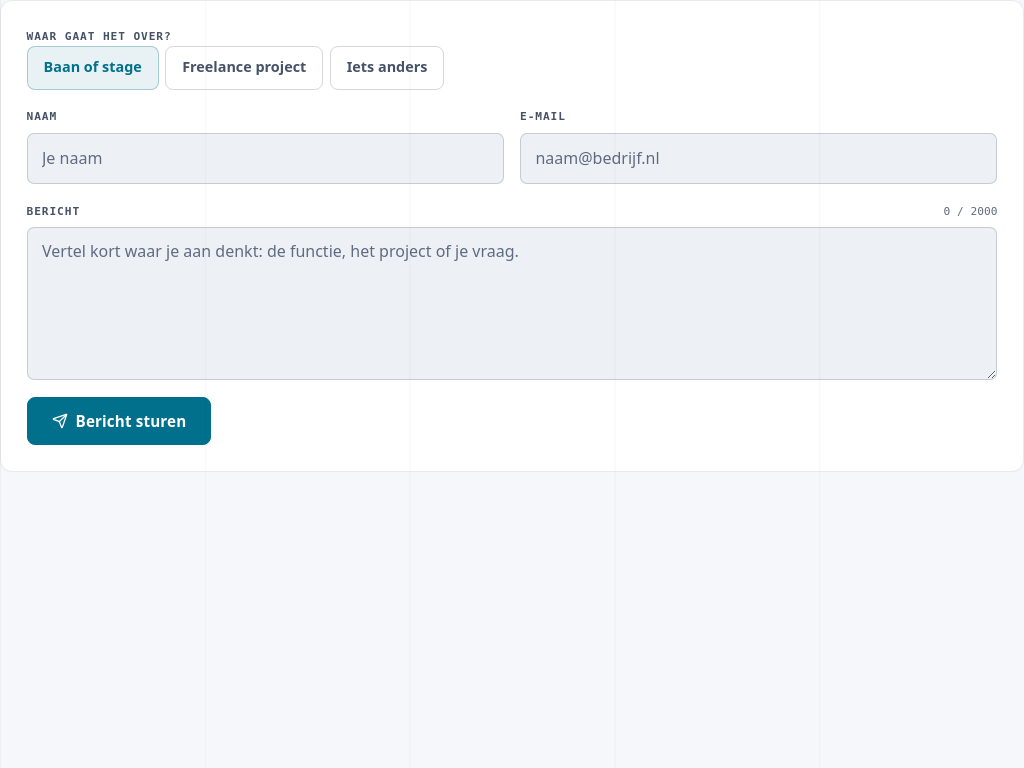
Test: ContactForm › toont een vriendelijke foutmelding als versturen mislukt
Click the radio button labelled "Freelance project": (244, 68) [165,46,323,90]
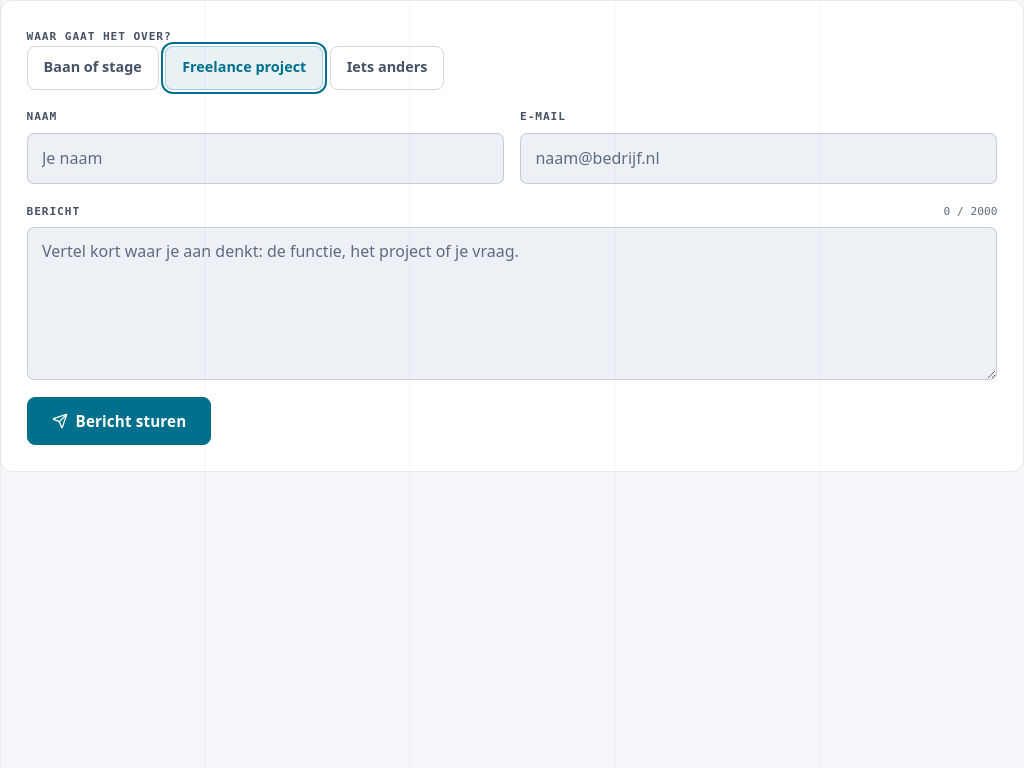
In the field labelled "Naam": (265, 158) [27,133,504,184], type "Sanne de Vries"
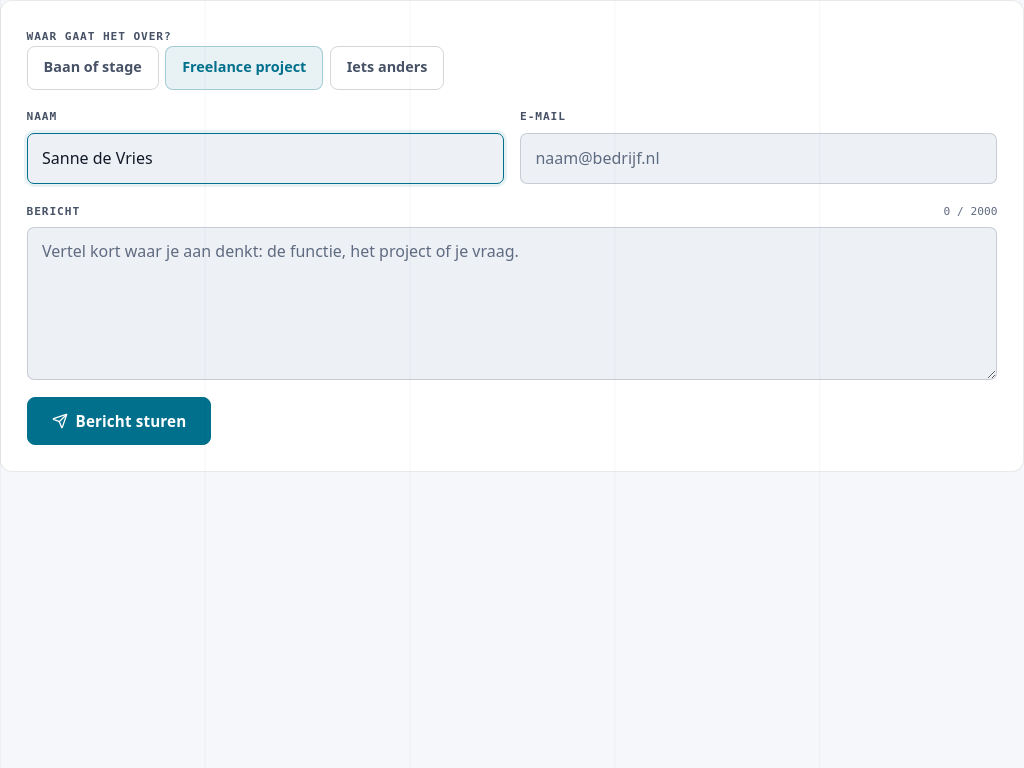
In the field labelled "E-mail": (759, 158) [520,133,997,184], type "sanne@bedrijf.nl"
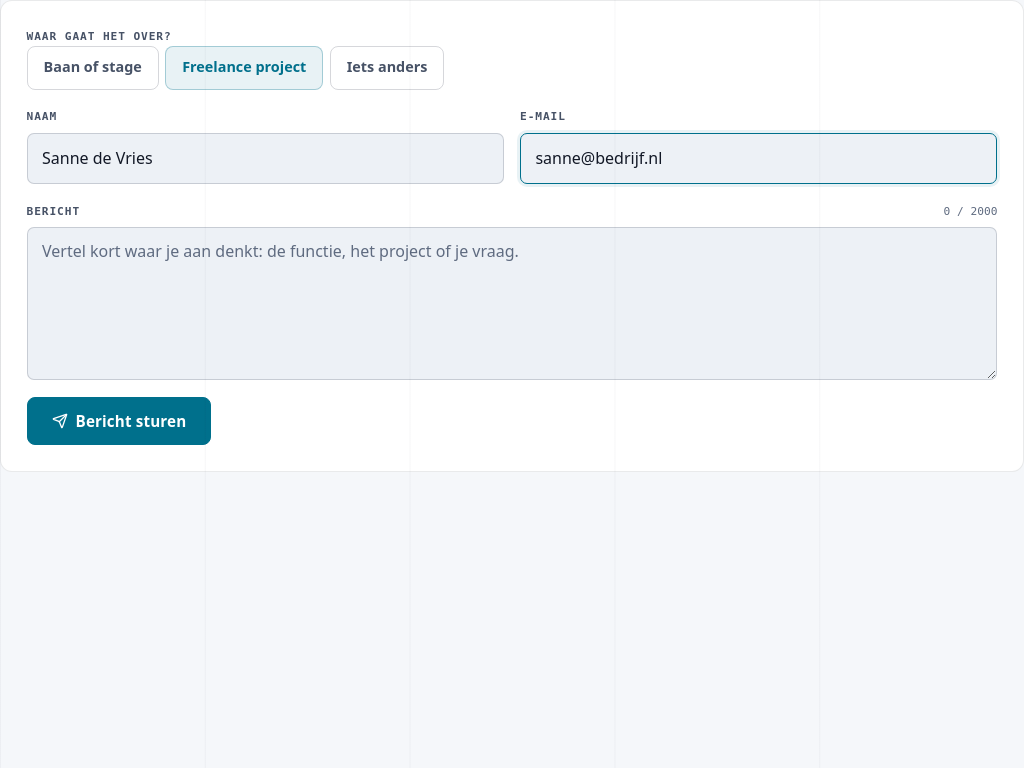
In the text box labelled "Bericht": (512, 303) [27,227,997,380], type "We zoeken een developer voor een React-project."
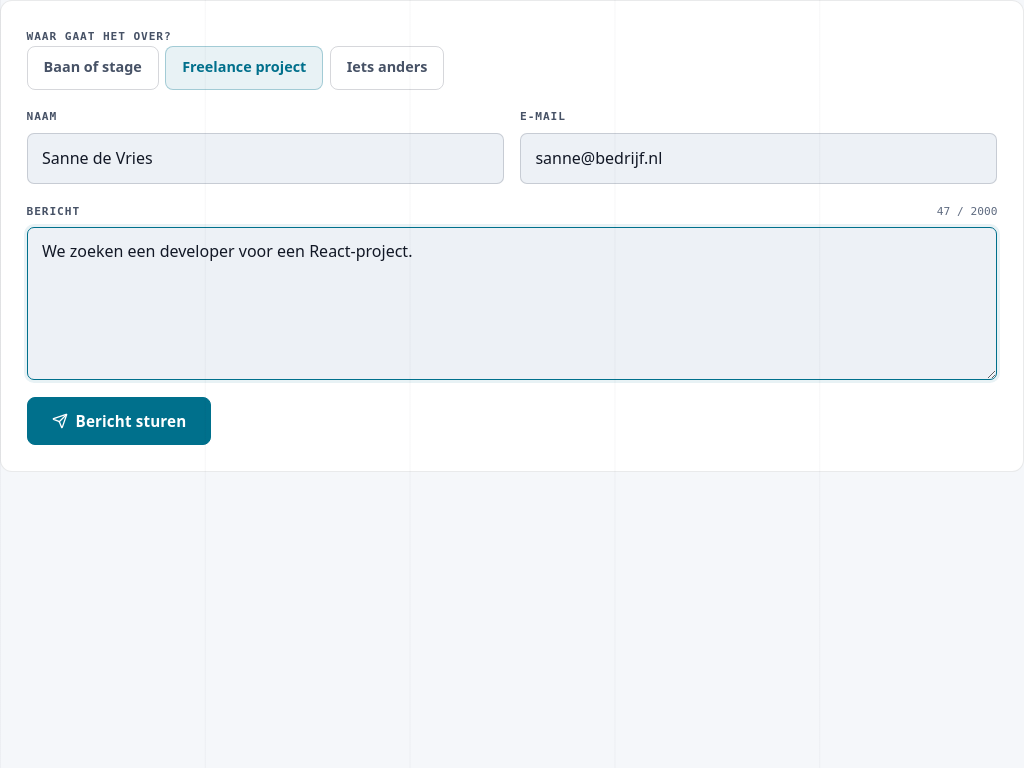
Click the button "Bericht sturen": (119, 421) [27,397,211,445]
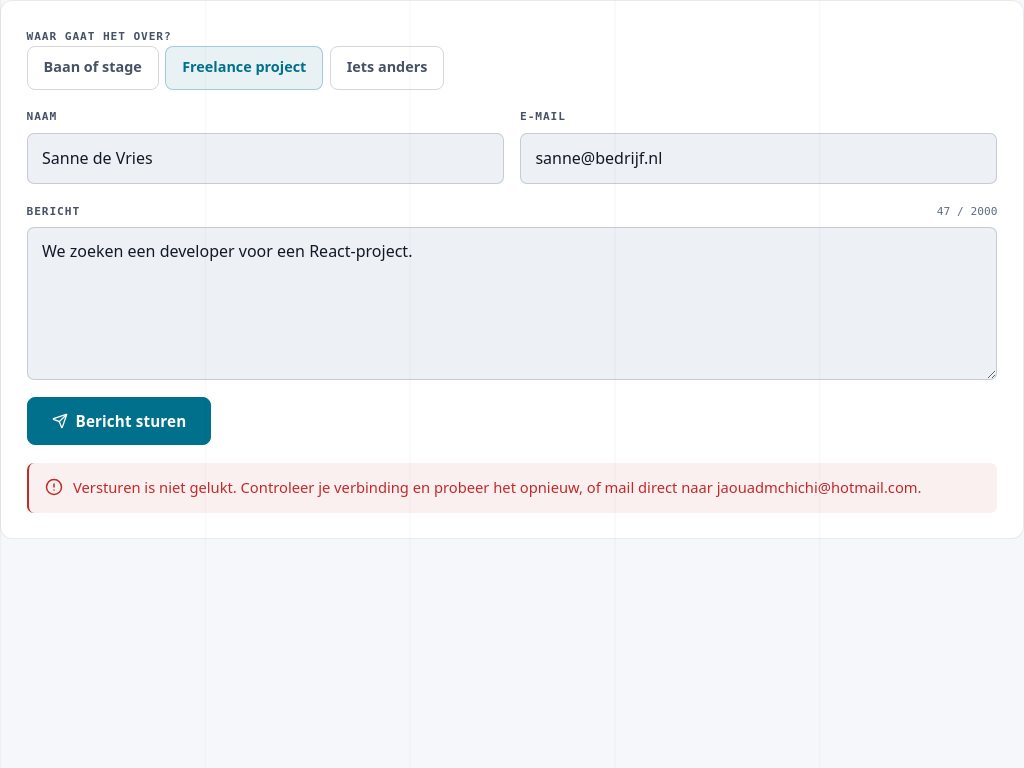
Check: the text "Versturen is niet gelukt" is shown, box [73,477,713,497]
